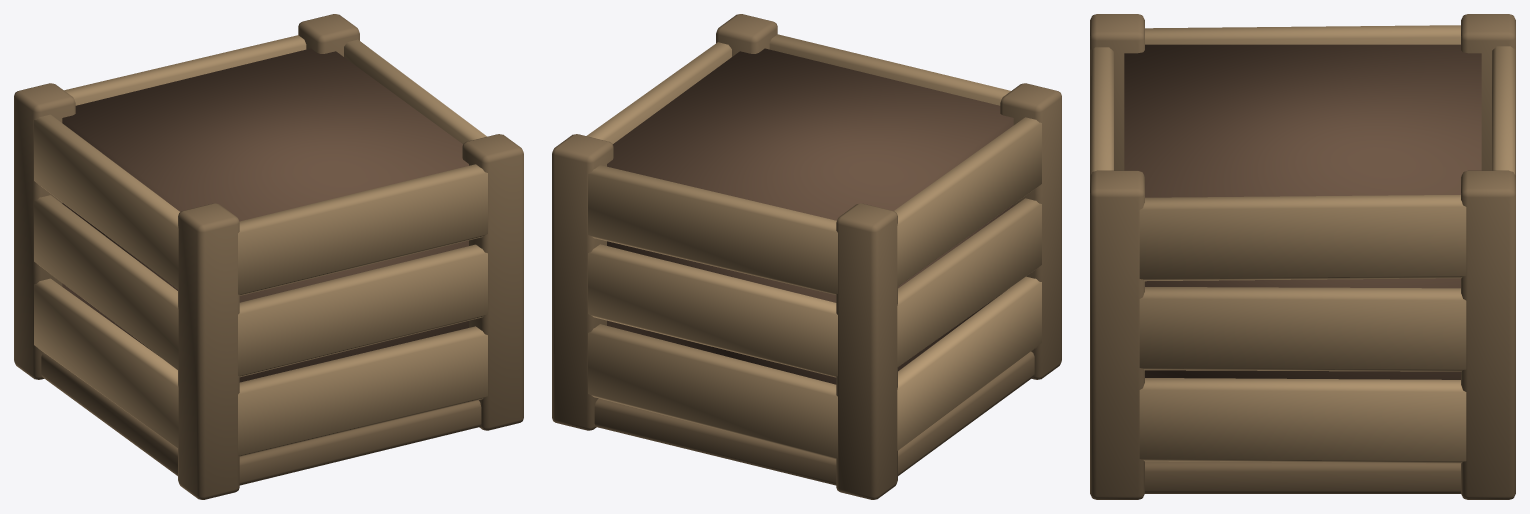
File: crate_s.glb
3 renders of one model, left to right at view 1: azimuth 30°, elevation 25°; view 2: azimuth 150°, elevation 25°; view 3: azimuth 270°, elevation 25°, orthographic. The views are drawn at different scales.
Visible parts, largest first — view 1: Crate_S_Slats, Crate_S_Frame, Crate_S_Core; view 2: Crate_S_Slats, Crate_S_Frame, Crate_S_Core; view 3: Crate_S_Slats, Crate_S_Core, Crate_S_Frame.
Part boxes in pixels (x1,y1,x2,y2): Crate_S_Slats: [34, 35, 487, 456]; Crate_S_Frame: [14, 14, 523, 499]; Crate_S_Core: [62, 48, 468, 382]; Crate_S_Slats: [586, 34, 1041, 459]; Crate_S_Frame: [552, 14, 1061, 499]; Crate_S_Core: [607, 48, 1013, 384]; Crate_S_Slats: [1090, 25, 1515, 463]; Crate_S_Core: [1124, 44, 1481, 379]; Crate_S_Frame: [1090, 14, 1515, 499].
Bounding box in the file's own units: 0.62 × 0.5 × 0.62.
